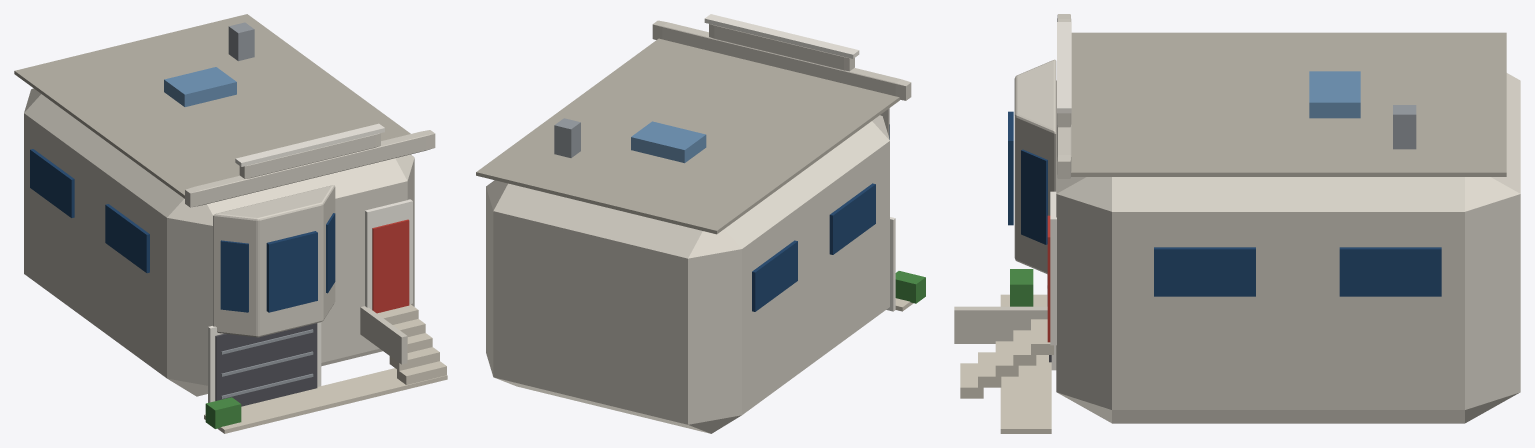
File: sunset_w7_stepped_bay.glb
3 renders of one model, left to right at view 1: azimuth 30°, elevation 25°; view 2: azimuth 150°, elevation 25°; view 3: azimuth 270°, elevation 25°, orthographic. The views are drawn at different scales.
Parts seen in each view (by area): view 1: walls, roofslab, bay, gdoor, pp1, patio, bw, door, bwa, skylt, pp2, dfr (+11 smaller); view 2: walls, roofslab, pp1, skylt, pp2, sb, sb.002, pcap, pipe, hedge, gfr; view 3: walls, roofslab, bay, sb.003, sb.001, patio, srail, skylt, bwa.001, pcap, dfr, pipe (+8 smaller).
Part boxes in pixels (x1,y1,x2,y2): walls: (24,88,414,396); roofslab: (14,14,410,198); bay: (213,185,335,337); gdoor: (215,323,317,406); pp1: (185,130,435,207); patio: (204,368,447,433); bw: (266,231,317,312); door: (372,219,409,313); bwa: (220,240,248,312); skylt: (164,67,236,106); pp2: (239,133,380,178); dfr: (365,199,412,309); walls: (486,115,889,433); roofslab: (476,38,899,234); pp1: (652,20,911,100); skylt: (631,121,706,163); pp2: (709,24,854,71); sb: (829,183,875,254); sb.002: (752,240,797,311); pcap: (704,14,859,58); pipe: (554,118,580,157); hedge: (895,271,925,303); gfr: (886,217,895,311); walls: (1056,73,1520,423); roofslab: (1071,32,1506,176); bay: (1014,59,1056,274); sb.003: (1339,247,1441,296); sb.001: (1154,247,1255,296); patio: (1000,294,1051,433); srail: (954,306,1047,343); skylt: (1309,71,1360,118); bwa.001: (1021,149,1047,244); pcap: (1057,22,1071,113); dfr: (1050,191,1056,345); pipe: (1393,105,1416,149).
Bounding box in the file's own units: 7.8 × 7.17 × 12.2.
